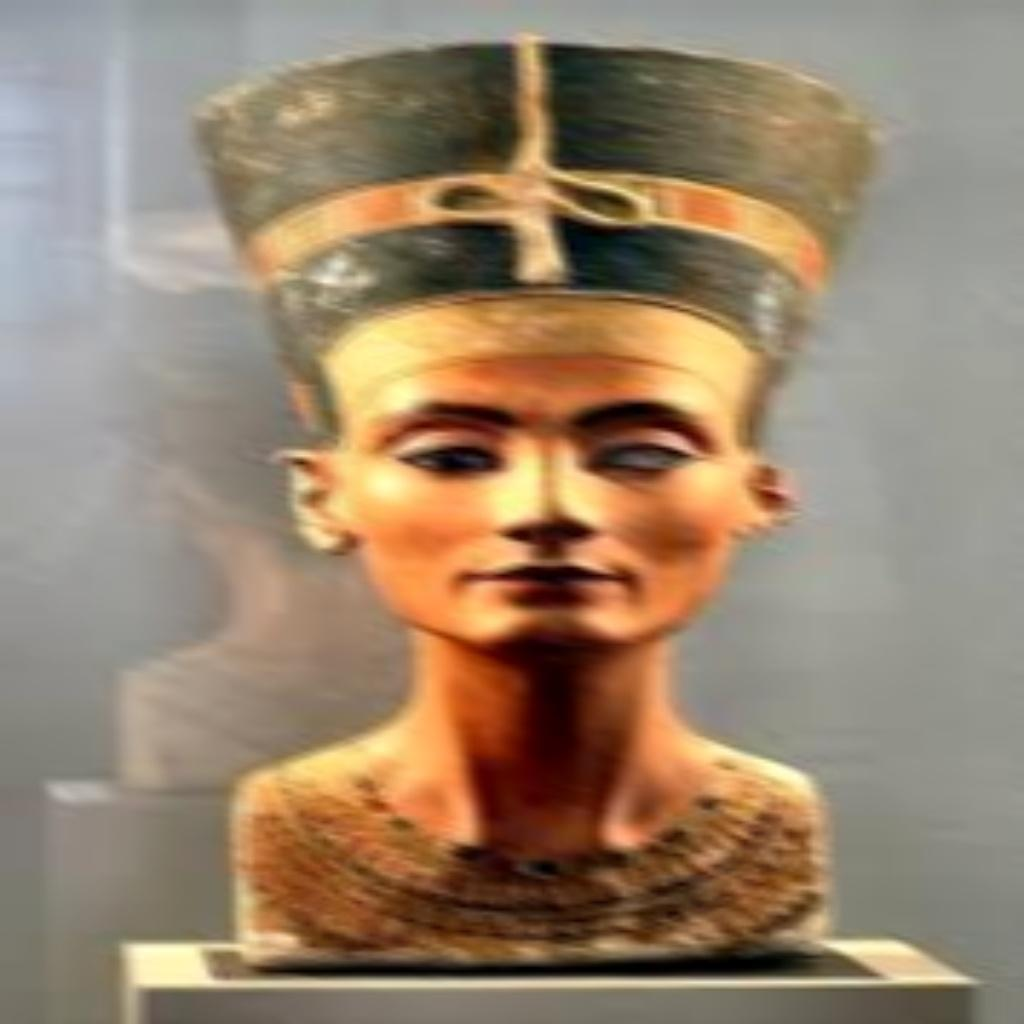Nefertiti: (184, 32, 880, 970)
